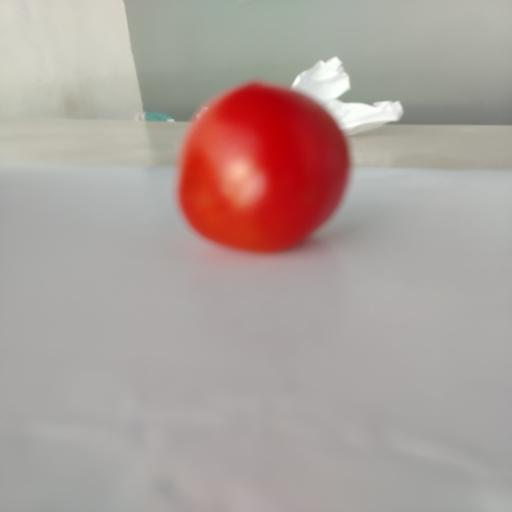ripe: (178, 83, 349, 251)
